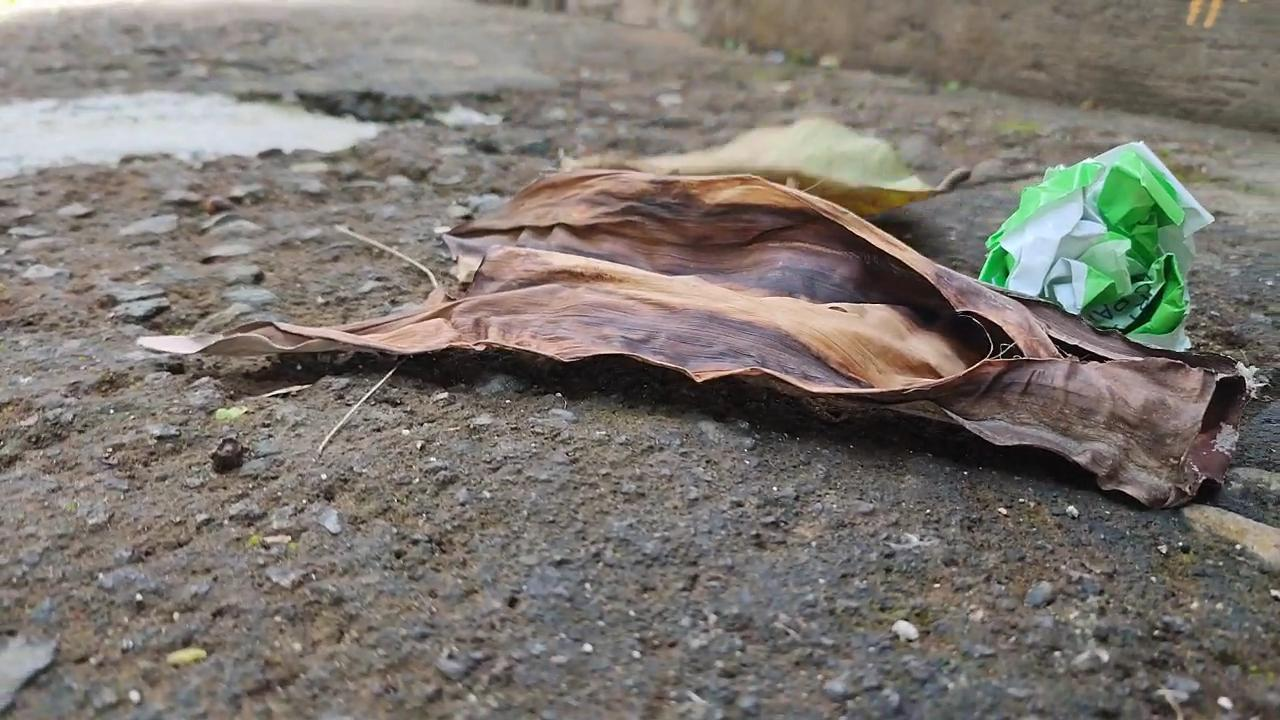Paper: (975, 137, 1222, 351)
